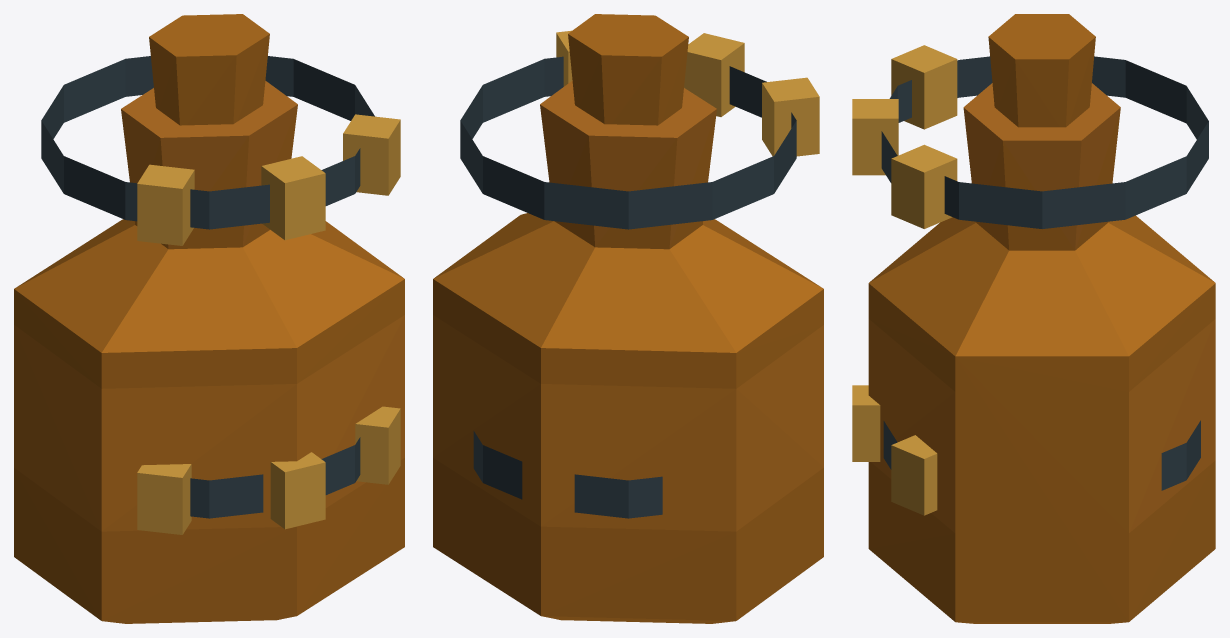
Rendered from jug-butter.glb.
The picture shows the model from 3 angles, left to right: view 1: azimuth 30°, elevation 25°; view 2: azimuth 150°, elevation 25°; view 3: azimuth 270°, elevation 25°; orthographic projection.
Parts seen in each view (by area): view 1: jug-butter; view 2: jug-butter; view 3: jug-butter.
Boxes of the visible parts, x1,y1,x2,y2 form: jug-butter: (14, 14, 404, 623); jug-butter: (433, 14, 823, 623); jug-butter: (852, 14, 1215, 623).
Size of the model in its own units: 0.35 by 0.59 by 0.3665.
